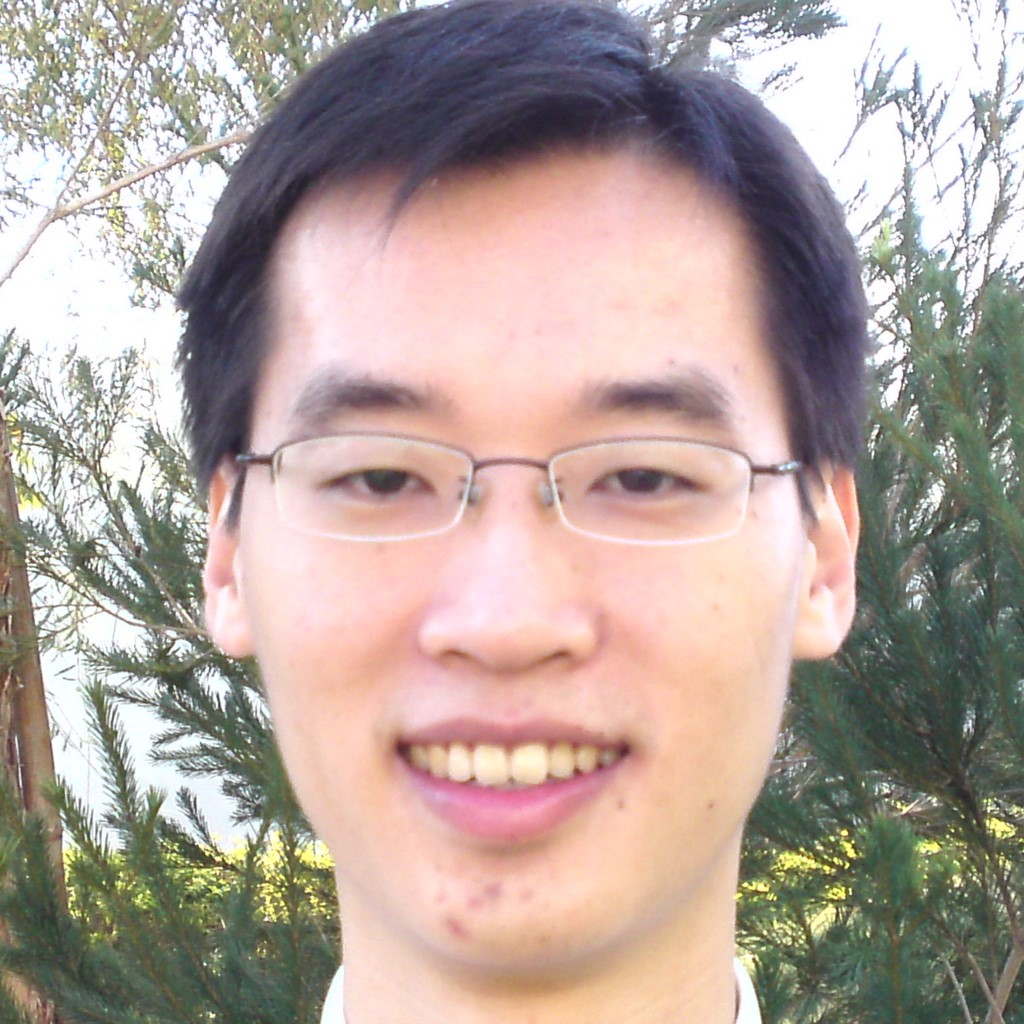sin_mascara: (241, 130, 816, 978)
